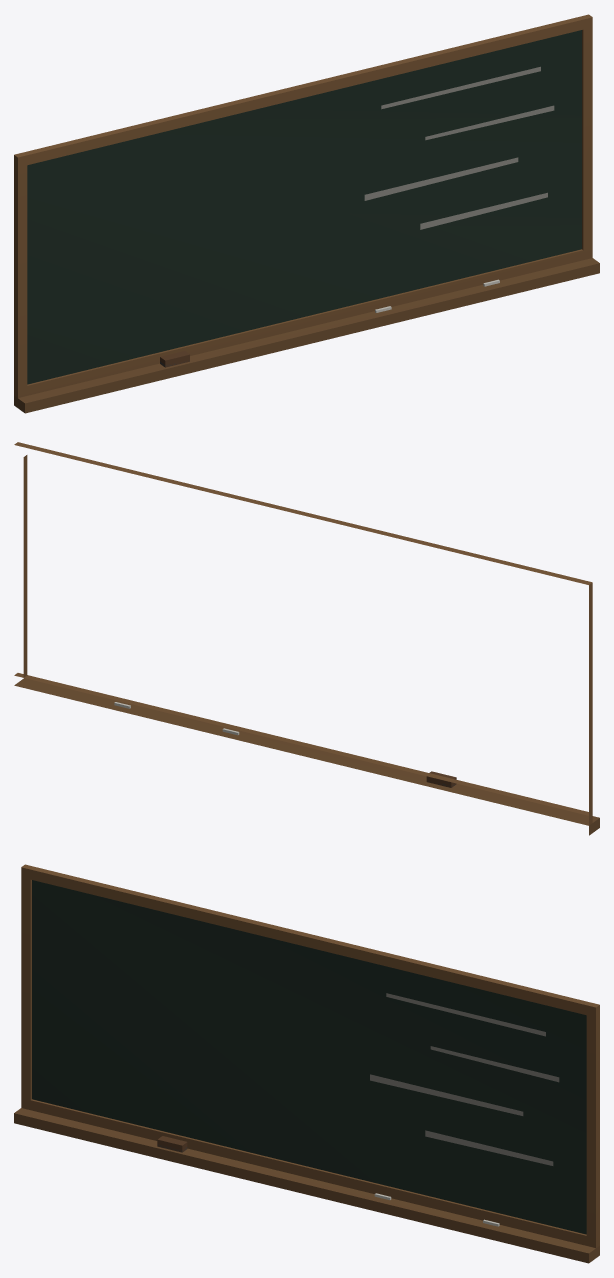
File: board.chalk.green.glb
The picture shows the model from 3 angles, top to bottom: view 1: azimuth 30°, elevation 25°; view 2: azimuth 150°, elevation 25°; view 3: azimuth 330°, elevation 25°; orthographic projection.
Parts seen in each view (by area): view 1: board_chalk_green; view 2: board_chalk_green; view 3: board_chalk_green.
Part boxes in pixels (box(x1,y1,x2,y2)): board_chalk_green: box(14, 14, 599, 413); board_chalk_green: box(14, 442, 599, 835); board_chalk_green: box(14, 864, 599, 1263).
Size of what is drawn, in the model's own units: 3 by 1.25 by 0.1.
